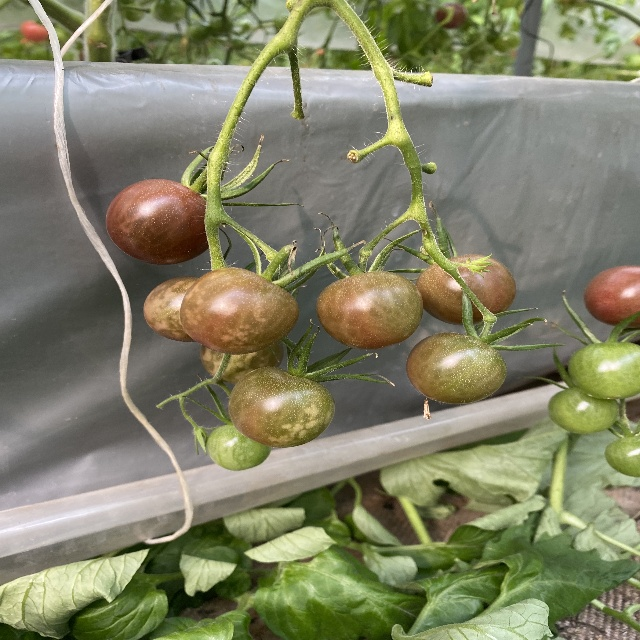l_fully_ripened: (105, 180, 209, 265), (583, 265, 640, 328)
l_green: (568, 342, 640, 401), (144, 276, 200, 342), (547, 389, 620, 434), (206, 423, 272, 470), (604, 434, 640, 477)
l_half_ripened: (179, 266, 300, 356), (228, 367, 336, 449), (316, 271, 424, 349), (406, 331, 506, 405), (414, 254, 515, 325), (200, 340, 283, 383)
